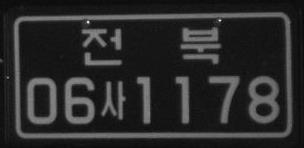0: (26, 76, 57, 125)
1: (131, 75, 156, 125), (170, 75, 195, 124)
6: (63, 76, 95, 124)
7: (207, 74, 241, 124)
8: (247, 74, 280, 124)
사: (100, 79, 126, 120)
전북_D: (81, 25, 221, 66)
